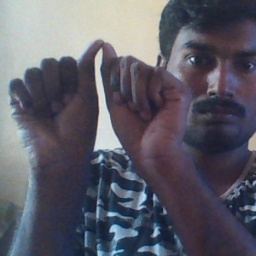A: (8, 36, 193, 155)
